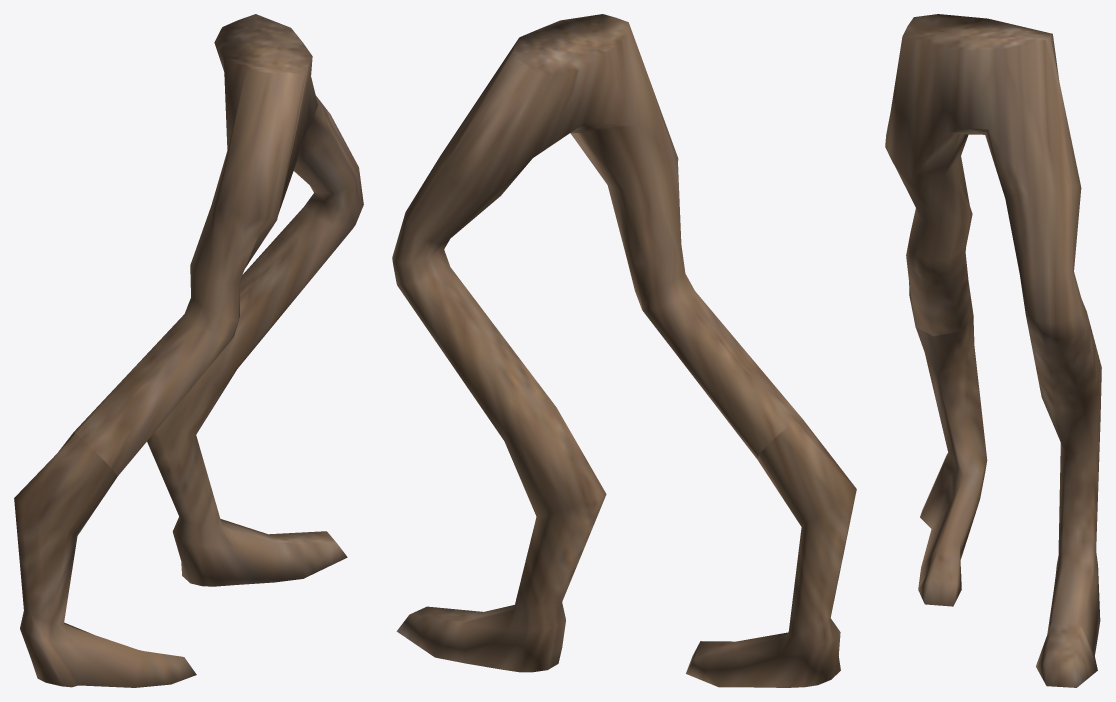
The model's file is demon_legs_000013.obj.
3 views of the same model, side by side, from view 1: azimuth 30°, elevation 25°; view 2: azimuth 150°, elevation 25°; view 3: azimuth 270°, elevation 25° (orthographic). The views are drawn at different scales.
Visible parts, largest first — view 1: Legs; view 2: Legs; view 3: Legs.
Boxes of the visible parts, box(x1,y1,x2,y2) form: Legs: box(14, 14, 363, 687); Legs: box(392, 14, 856, 687); Legs: box(885, 14, 1101, 687).
Size of the model in its own units: 4.38 by 6.37 by 1.98.
Materials: 1 (1 with a texture image).
